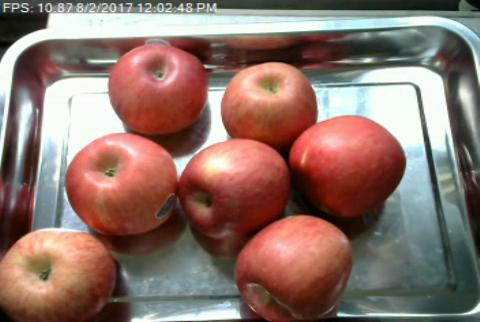apple: (235, 215, 353, 321), (288, 115, 407, 217), (66, 132, 177, 234), (0, 228, 116, 321), (179, 139, 288, 237), (108, 44, 209, 135), (221, 61, 316, 140)
